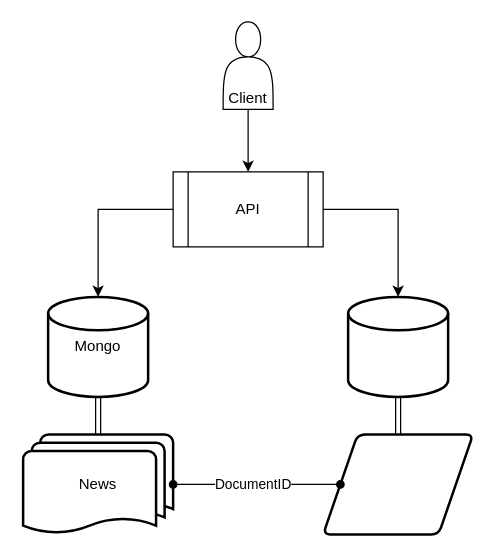
Some shapes in this 495 by 558 pixel diagram are drawn without their labels. Here are the shapes that lost their labels. From the top down, the box of each, then its label:
(346, 295, 449, 398): Milvus
(321, 432, 474, 535): Embeddings
